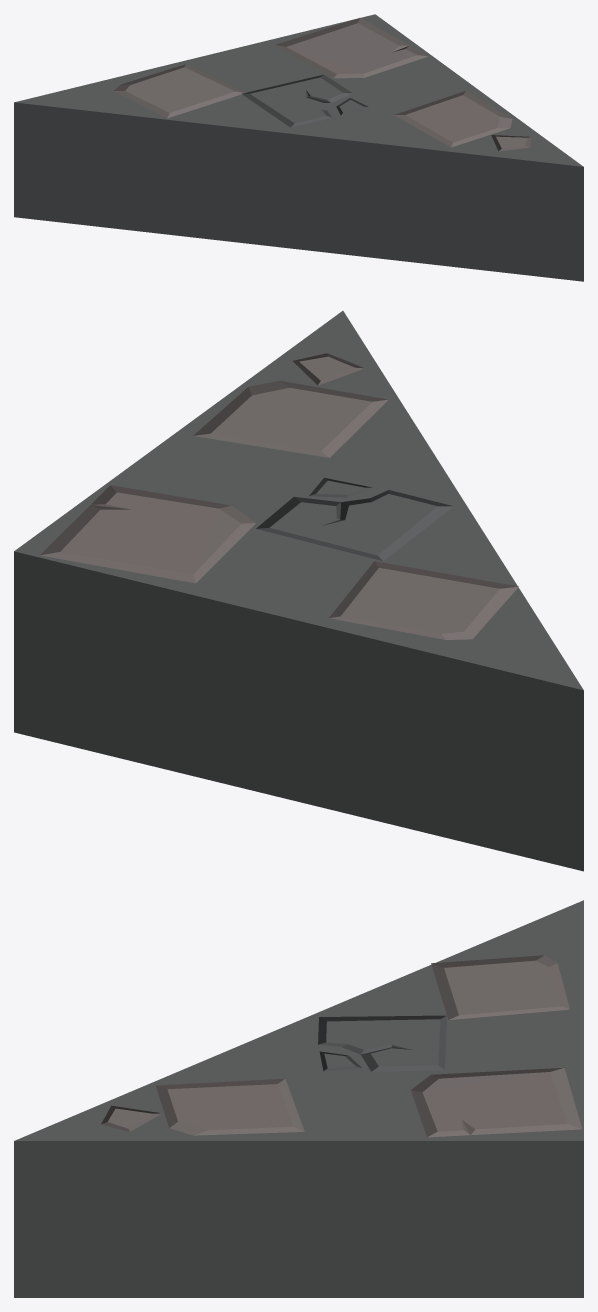
The model's file is Ground_Tiles_Large_00_half.FBX.
The picture shows the model from 3 angles, top to bottom: view 1: azimuth 30°, elevation 25°; view 2: azimuth 150°, elevation 25°; view 3: azimuth 270°, elevation 25°; orthographic projection. The views are drawn at different scales.
Visible parts, largest first — view 1: Ground_Tiles_Large_00_half; view 2: Ground_Tiles_Large_00_half; view 3: Ground_Tiles_Large_00_half.
Boxes of the visible parts, <box> form: Ground_Tiles_Large_00_half: <box>14,14,583,281</box>; Ground_Tiles_Large_00_half: <box>14,311,583,871</box>; Ground_Tiles_Large_00_half: <box>14,900,583,1297</box>.
Bounding box in the file's own units: 100 × 30.98 × 100.
